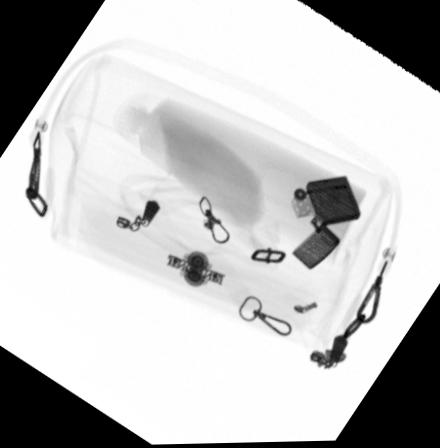Lighter: (288, 177, 360, 272)
